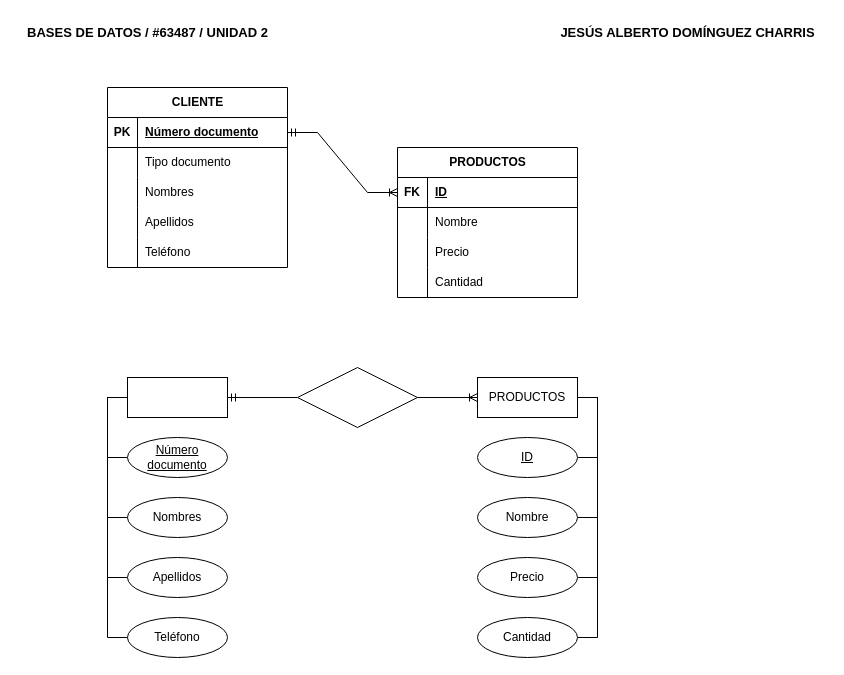
Some shapes in this 844 by 675 pixel diagram are drawn without their labels. The centre of each missing label's shape, as x and y in pixels:
CLIENTES: pixel 177 397
Compra: pixel 357 397
